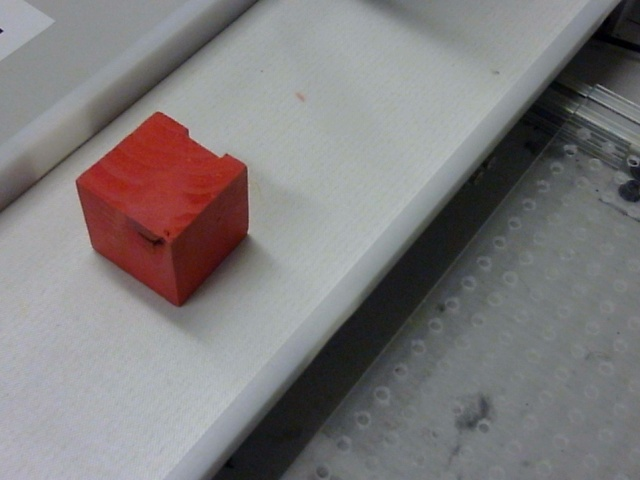RedBlock: (75, 110, 248, 307)
